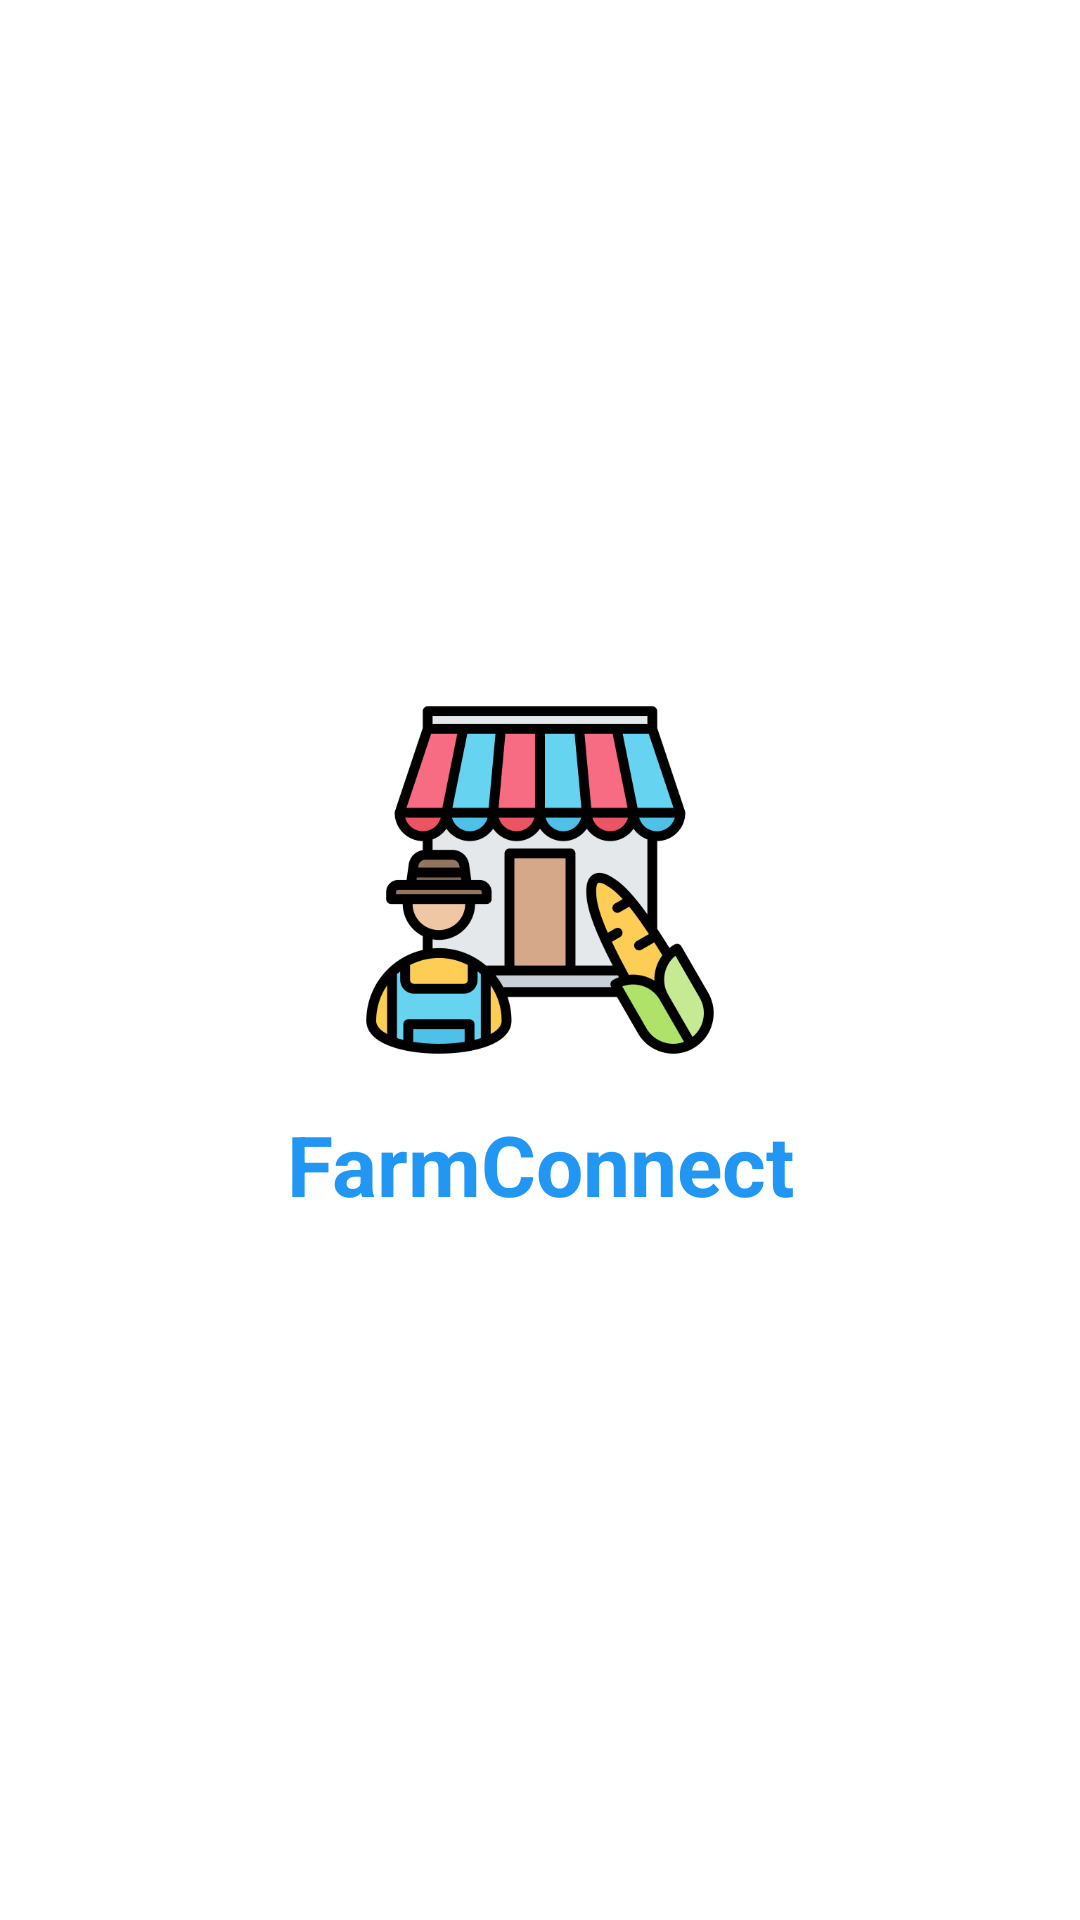

Point at icon controls on the screen. Image size 1080×1920, points as (x=x, y=y).
farming: (x=540, y=880)
